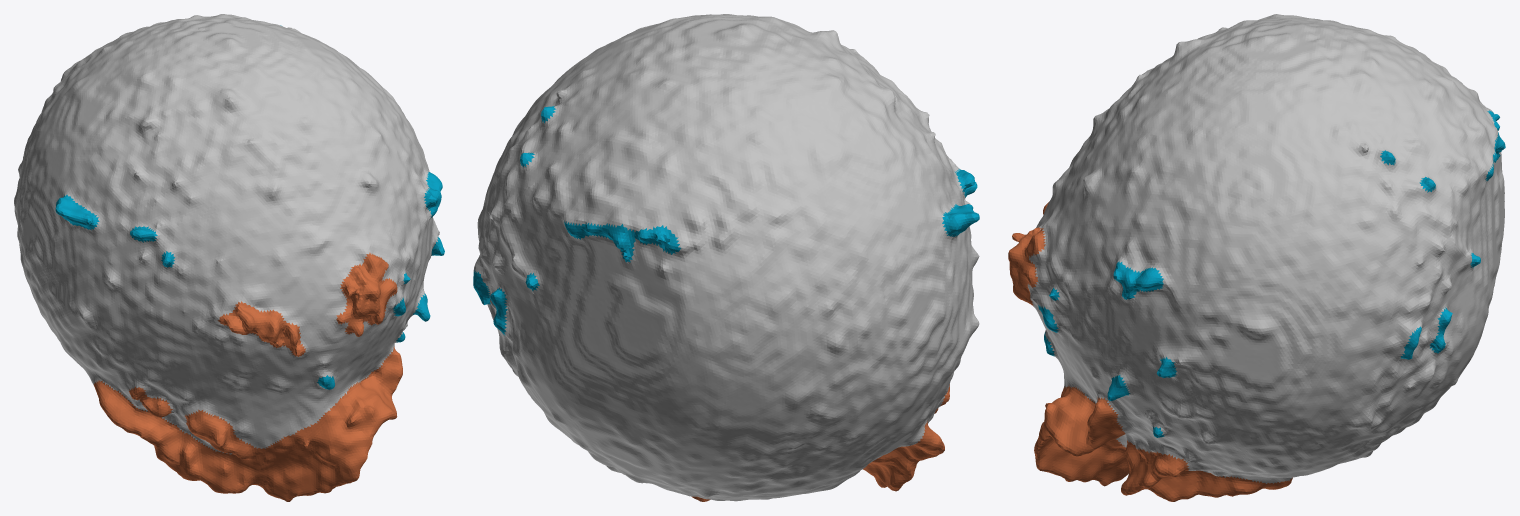
3 renders of one model, left to right at view 1: azimuth 30°, elevation 25°; view 2: azimuth 150°, elevation 25°; view 3: azimuth 270°, elevation 25°, orthographic. The views are drawn at different scales.
Bounding box in the file's own units: 128 × 134 × 133.
